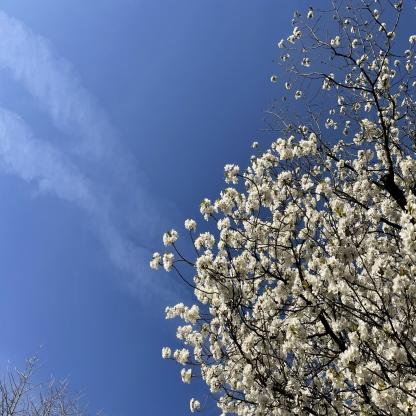OshimaSakura: (149, 0, 416, 415)
